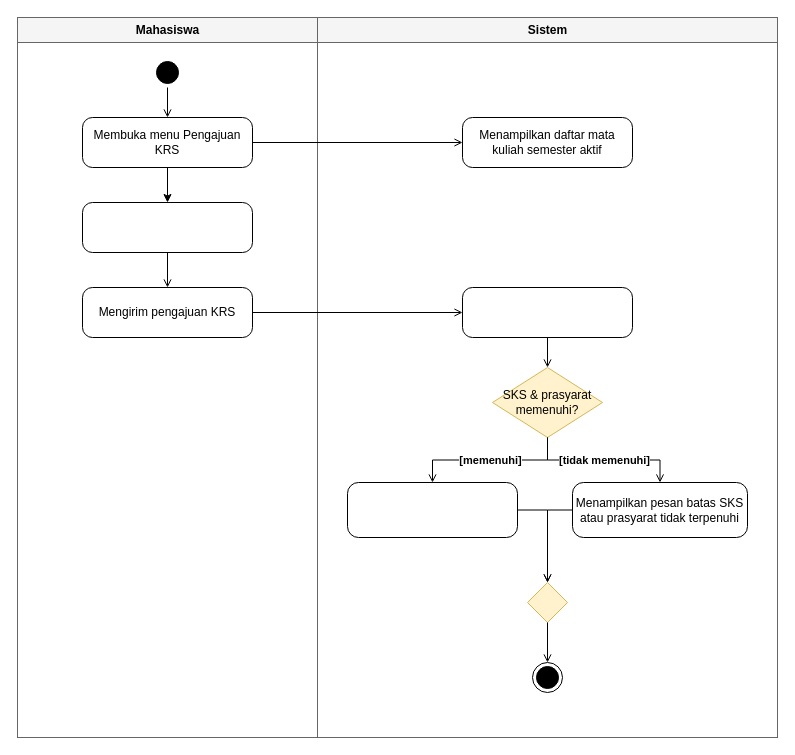
Some shapes in this 795 by 755 pixel diagram are drawn without their labels. The shapes that lost their labels are listed below. From the top down, each one's centre as x and y in pixels, then its label:
At point (167, 227): "Memilih mata kuliah yang diambil".
At point (547, 312): "Memeriksa batas maksimal SKS dan prasyarat".
At point (432, 510): "Menyimpan KRS dengan status Menunggu Persetujuan".
